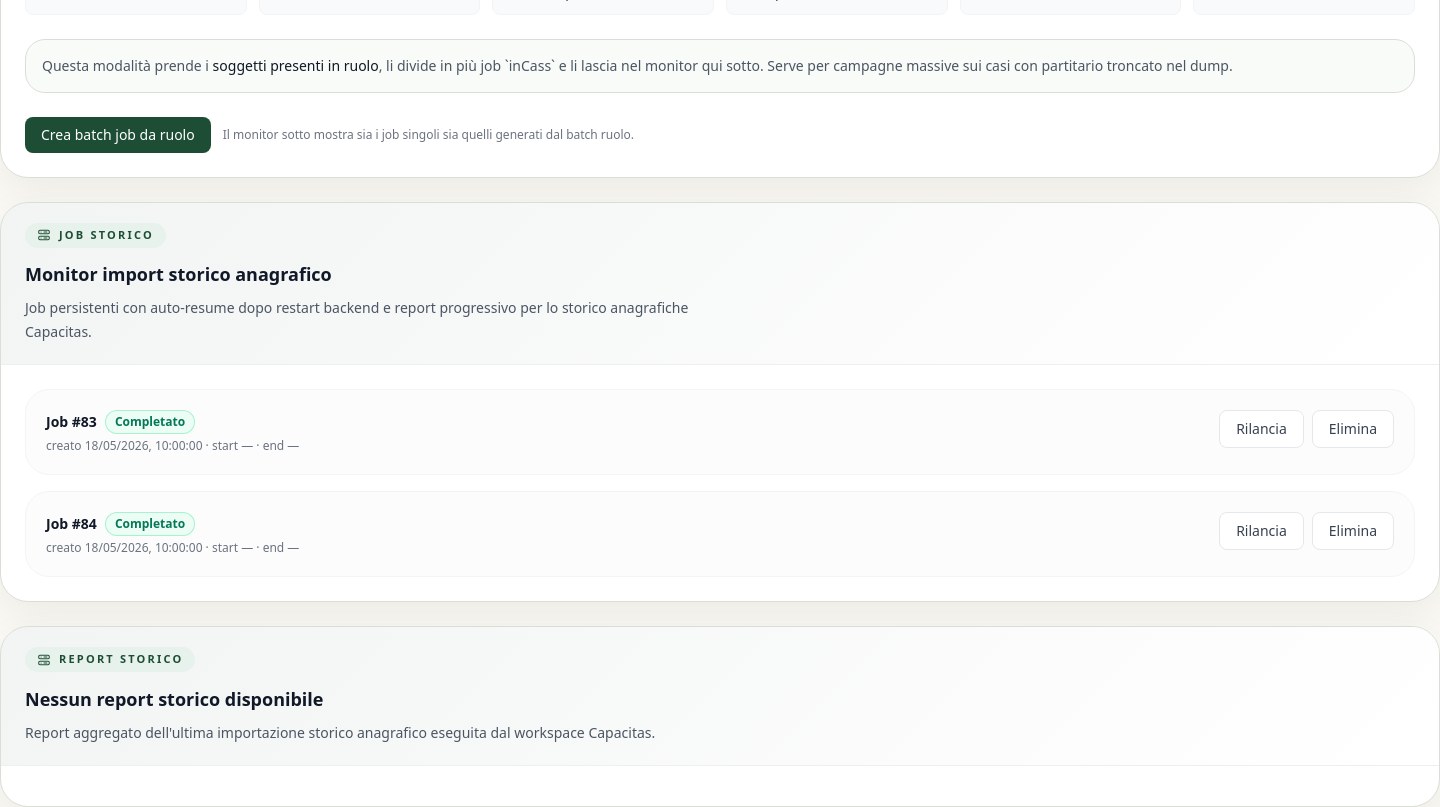
Test case: Capacitas Storico monitor, actions and results › removes only its selected terminal job after delete success without issuing a list refresh
(page scrolled)
Click the button "Elimina" in the row of "83". click: (1353, 429)
box: [1312,410,1394,448]
(page scrolled)
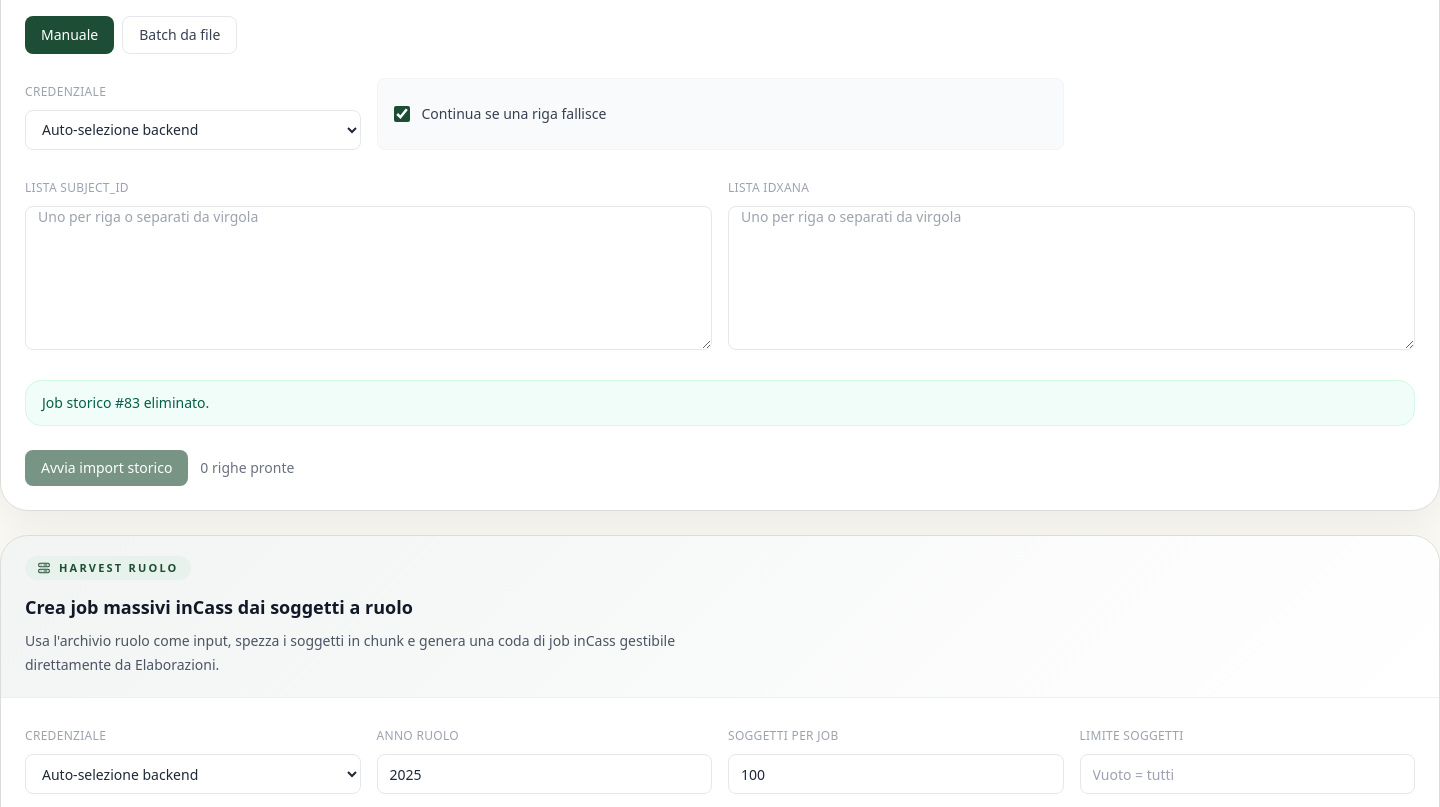
Result: the text "Job #83" is gone
Result: the text "Job storico #83 eliminato." is shown at [25,380,1415,426]
